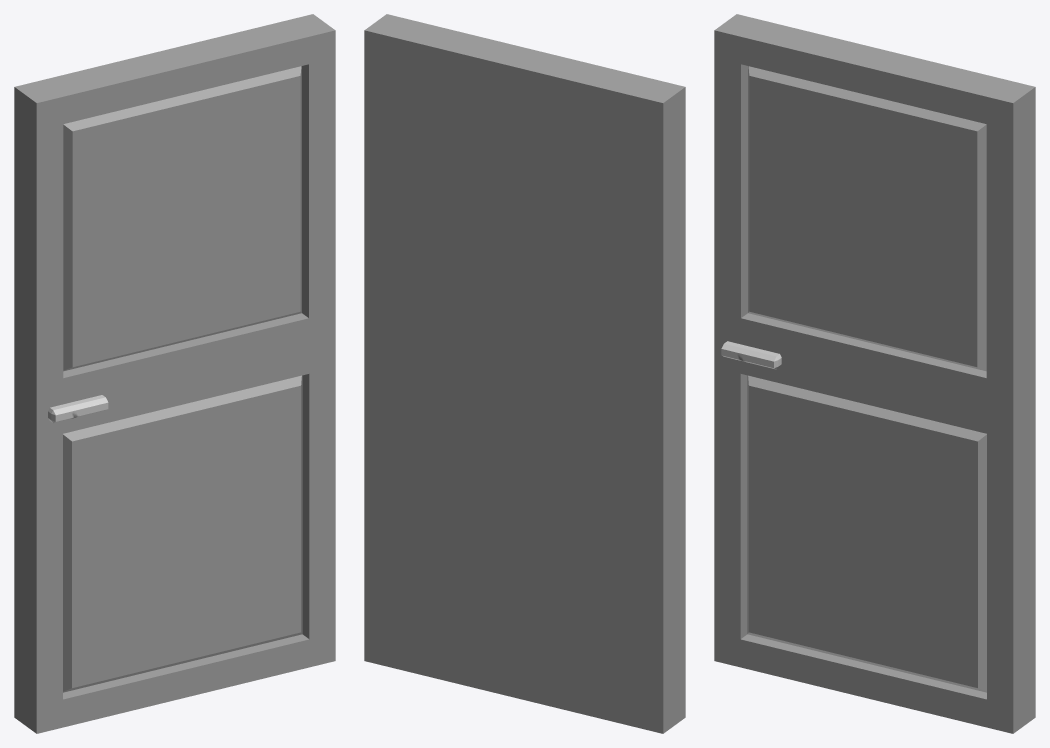
File: doorIn.fbx
The picture shows the model from 3 angles, left to right: view 1: azimuth 30°, elevation 25°; view 2: azimuth 150°, elevation 25°; view 3: azimuth 330°, elevation 25°; orthographic projection.
Parts seen in each view (by area): view 1: doorIn; view 2: doorIn; view 3: doorIn.
Part boxes in pixels (x1,y1,x2,y2): doorIn: (14, 14, 335, 733); doorIn: (364, 14, 685, 733); doorIn: (714, 14, 1035, 733).
Size of the model in its own units: 101 by 204 by 16.63.
Materials: 2 (1 with a texture image).
